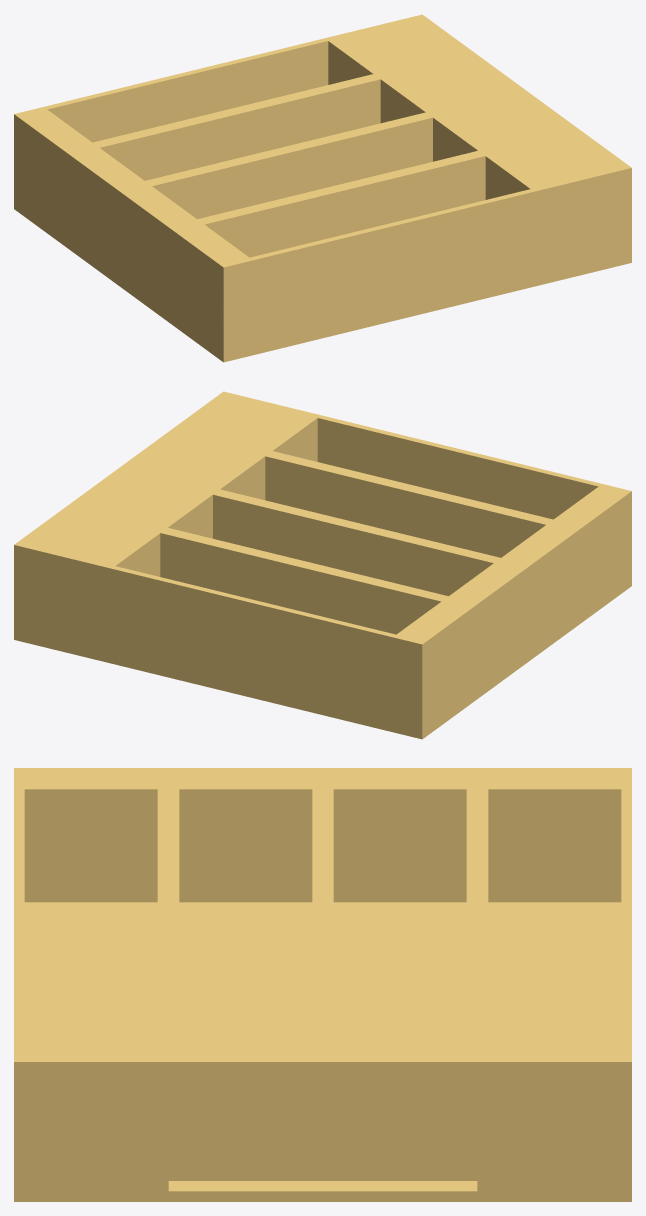
Rendered from r.machine.base.fbx.
3 views of the same model, one above another, from view 1: azimuth 30°, elevation 25°; view 2: azimuth 150°, elevation 25°; view 3: azimuth 270°, elevation 25° (orthographic). The views are drawn at different scales.
Visible parts, largest first — view 1: resistor.machine.002; view 2: resistor.machine.002; view 3: resistor.machine.002.
Part boxes in pixels (bbox=[...]): resistor.machine.002: bbox=[14, 14, 631, 362]; resistor.machine.002: bbox=[14, 391, 631, 739]; resistor.machine.002: bbox=[14, 768, 631, 1201].
Bounding box in the file's own units: 800 × 200 × 900.
